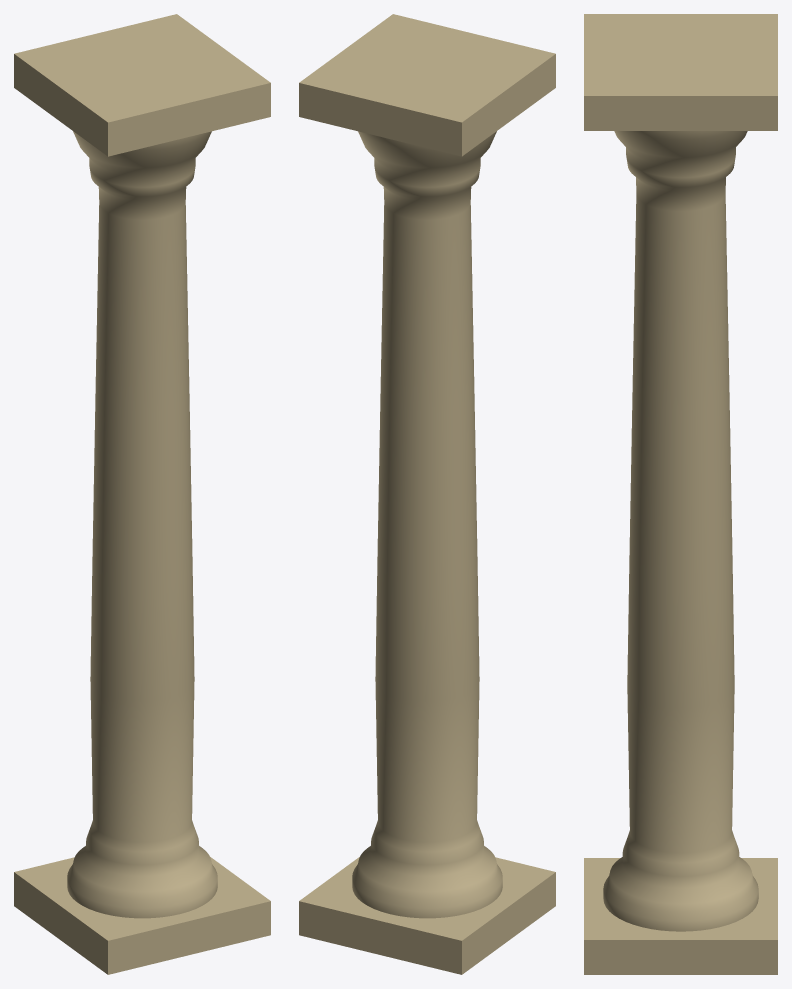
Rendered from rpg-mansion-tuscan-support-column-01.glb.
The picture shows the model from 3 angles, left to right: view 1: azimuth 30°, elevation 25°; view 2: azimuth 150°, elevation 25°; view 3: azimuth 270°, elevation 25°; orthographic projection. The views are drawn at different scales.
Visible parts, largest first — view 1: rpg-mansion-tuscan-support-column-01; view 2: rpg-mansion-tuscan-support-column-01; view 3: rpg-mansion-tuscan-support-column-01.
Boxes of the visible parts, x1,y1,x2,y2 form: rpg-mansion-tuscan-support-column-01: (14, 14, 270, 974); rpg-mansion-tuscan-support-column-01: (299, 14, 555, 974); rpg-mansion-tuscan-support-column-01: (584, 14, 777, 974).
Size of the model in its own units: 0.6 by 3 by 0.6.
